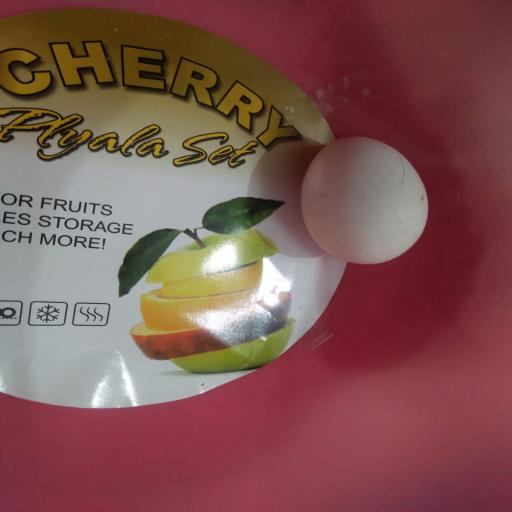telur: (301, 137, 428, 264)
